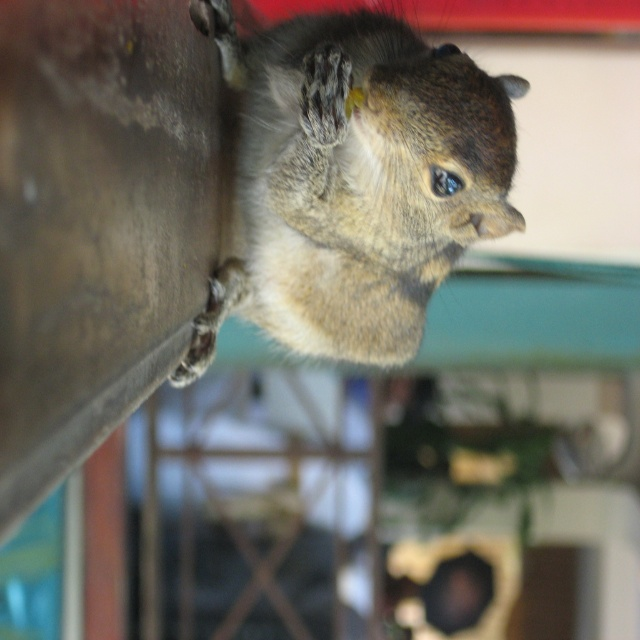Squirrel: (169, 0, 530, 389)
